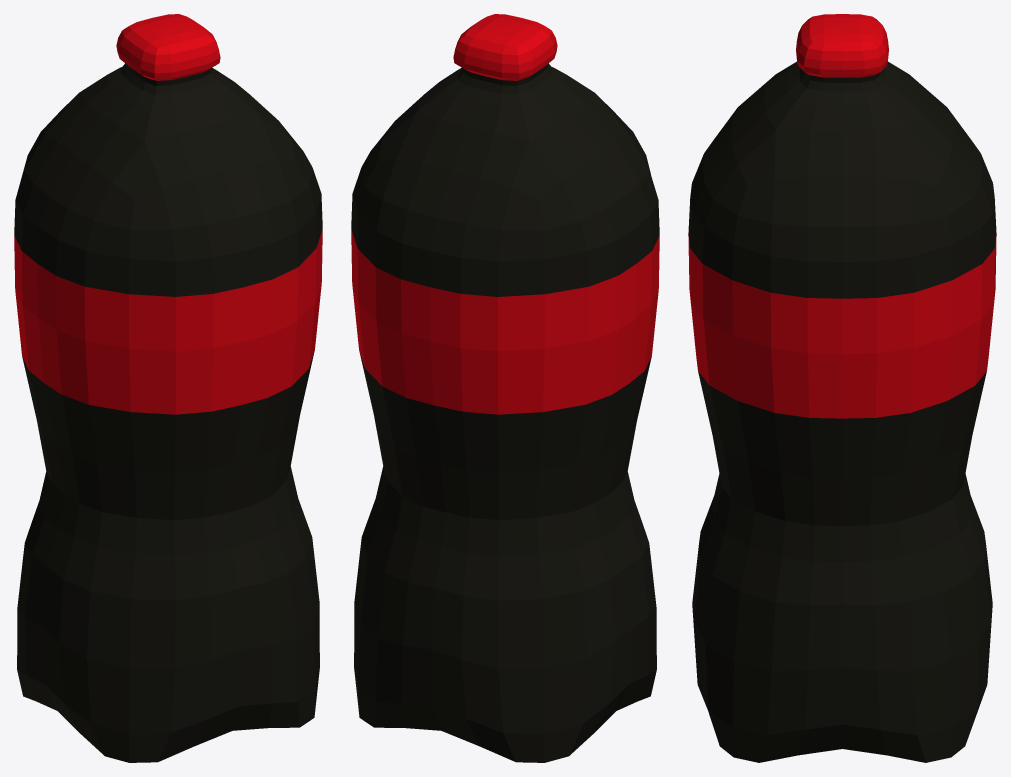
File: bouteille_coca.fbx
3 views of the same model, side by side, from view 1: azimuth 30°, elevation 25°; view 2: azimuth 150°, elevation 25°; view 3: azimuth 270°, elevation 25° (orthographic).
Parts seen in each view (by area): view 1: bouteille; view 2: bouteille; view 3: bouteille.
Part boxes in pixels (x1,y1,x2,y2): bouteille: (14,14,322,762); bouteille: (351,14,659,762); bouteille: (688,14,996,762).
Size of the model in its own units: 39.51 by 97.79 by 39.51.
